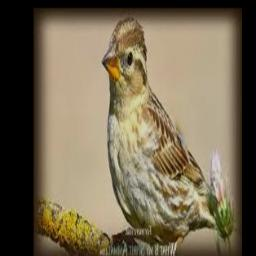Sparrow: (102, 18, 225, 249)
